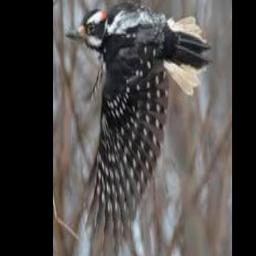Woodpecker: (66, 0, 211, 253)
